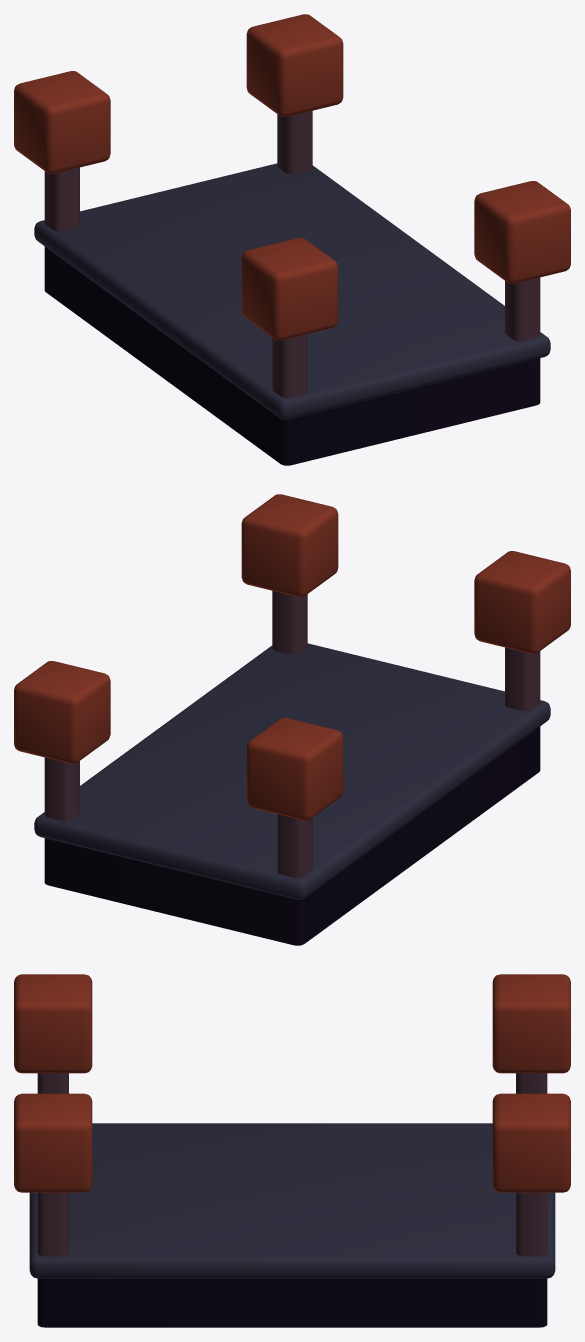
File: GroundLevelVolcano.fbx
3 renders of one model, top to bottom at view 1: azimuth 30°, elevation 25°; view 2: azimuth 150°, elevation 25°; view 3: azimuth 270°, elevation 25°, orthographic. The views are drawn at different scales.
Parts seen in each view (by area): view 1: GroundLevelVolcano; view 2: GroundLevelVolcano; view 3: GroundLevelVolcano.
Boxes of the visible parts, box(x1,y1,x2,y2) form: GroundLevelVolcano: box(14, 14, 570, 465); GroundLevelVolcano: box(14, 494, 570, 945); GroundLevelVolcano: box(14, 974, 570, 1327).
Bounding box in the file's own units: 920 × 600 × 1420.
